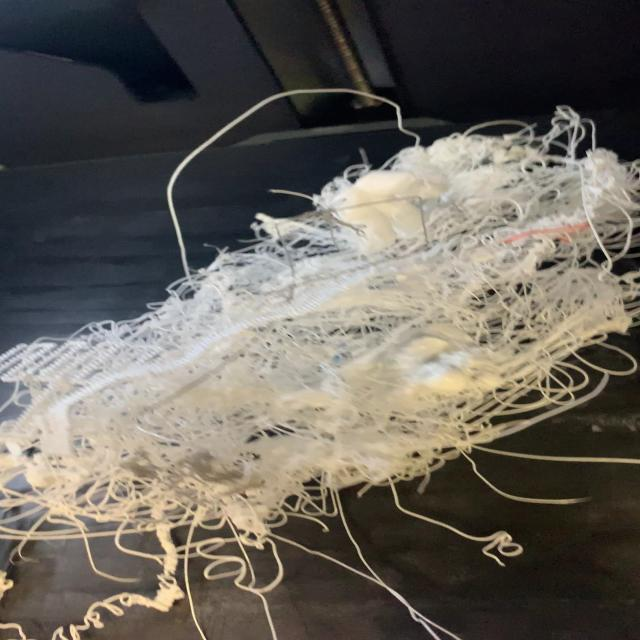spaghetti: (3, 88, 636, 638)
